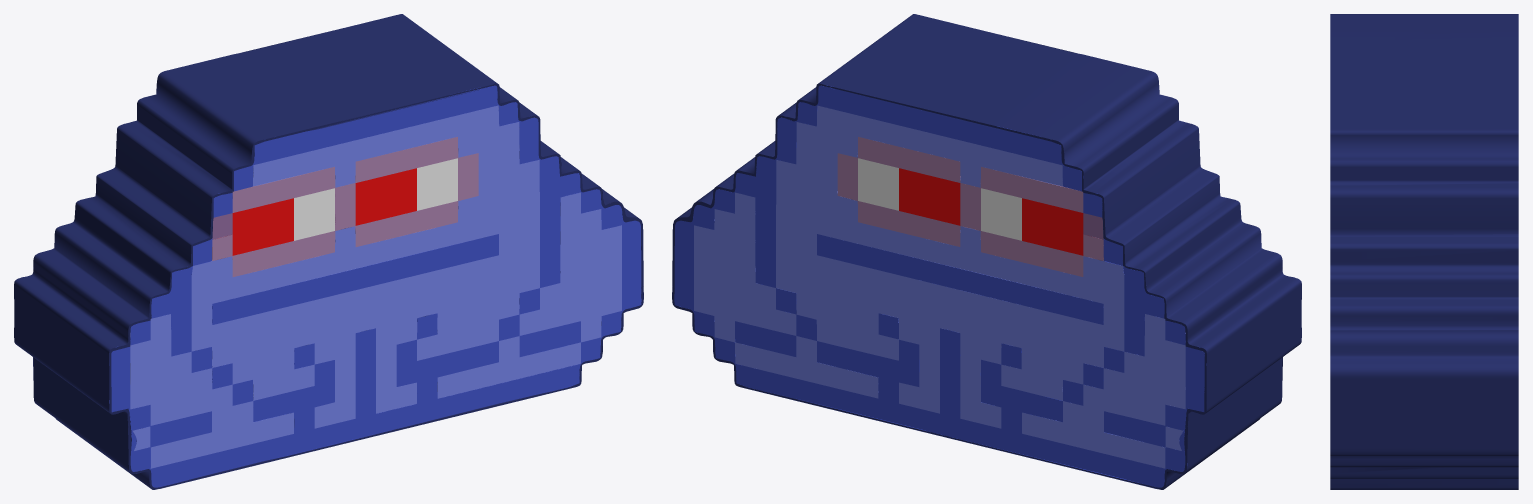
File: Toadz_5907.glb
The picture shows the model from 3 angles, left to right: view 1: azimuth 30°, elevation 25°; view 2: azimuth 150°, elevation 25°; view 3: azimuth 270°, elevation 25°; orthographic projection.
Parts seen in each view (by area): view 1: Curve; view 2: Curve; view 3: Curve.
Boxes of the visible parts, bbox=[...] form: Curve: bbox=[14, 14, 643, 489]; Curve: bbox=[672, 14, 1301, 489]; Curve: bbox=[1330, 14, 1518, 489].
Bounding box in the file's own units: 3.25 × 1.88 × 1.
